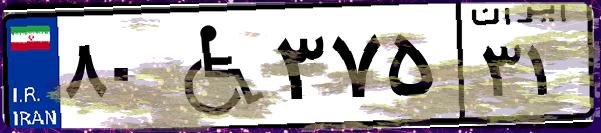0: (110, 28, 158, 98)
1: (525, 38, 570, 115)
3: (270, 28, 330, 110), (475, 38, 525, 113)
5: (385, 28, 445, 110)
7: (330, 28, 385, 110)
8: (57, 26, 110, 100)
ژ (معلولین و جانبازان): (158, 12, 270, 120)
